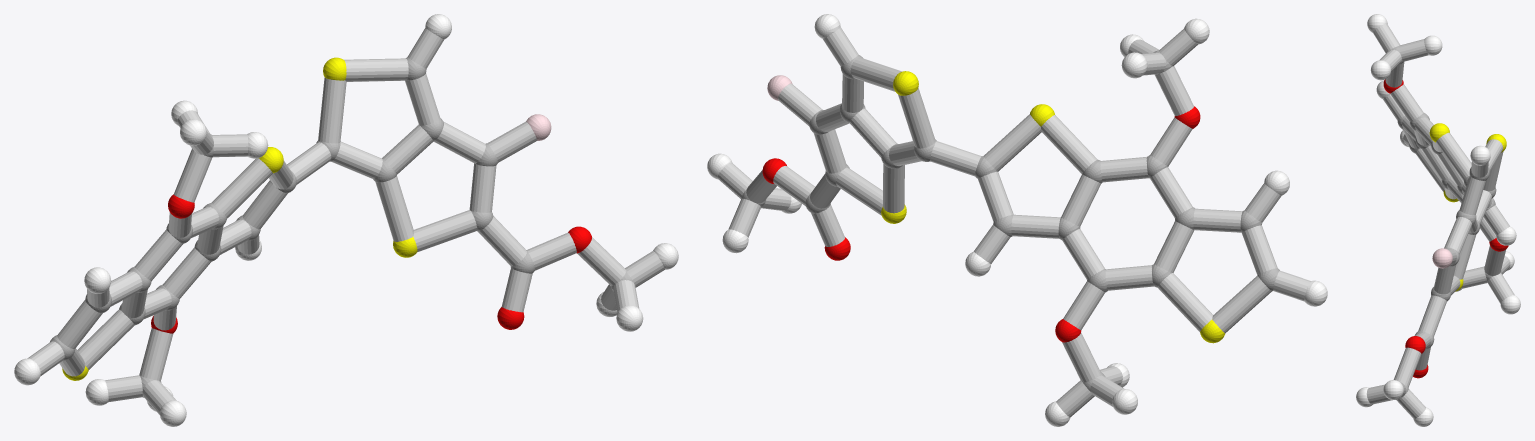
Rendered from Dimethoxy_Benzodithiophene_Phi_25_Theta_130_Methylcarbonyl_3_Fluoro_Thienothiophene.glb.
The picture shows the model from 3 angles, left to right: view 1: azimuth 30°, elevation 25°; view 2: azimuth 150°, elevation 25°; view 3: azimuth 270°, elevation 25°; orthographic projection. The views are drawn at different scales.
Parts seen in each view (by area): view 1: grp15205, grp8689, grp1, grp13395, grp7241; view 2: grp15205, grp8689, grp1, grp7241, grp13395; view 3: grp15205, grp8689, grp1, grp13395, grp7241, grp14843.
Boxes of the visible parts, <box> form: grp15205: <box>27,28,664,414</box>; grp8689: <box>14,14,678,426</box>; grp1: <box>50,57,633,397</box>; grp13395: <box>151,194,591,333</box>; grp7241: <box>62,57,417,380</box>; grp15205: <box>717,27,1310,417</box>; grp8689: <box>707,14,1327,426</box>; grp1: <box>741,50,1279,391</box>; grp7241: <box>881,71,1224,343</box>; grp13395: <box>762,106,1200,342</box>; grp15205: <box>1366,24,1514,418</box>; grp8689: <box>1356,14,1520,426</box>; grp1: <box>1392,46,1501,399</box>; grp13395: <box>1383,79,1508,378</box>; grp7241: <box>1429,123,1506,291</box>; grp14843: <box>1432,248,1452,268</box>.
Bounding box in the file's own units: 16.7 × 9.06 × 4.86.
